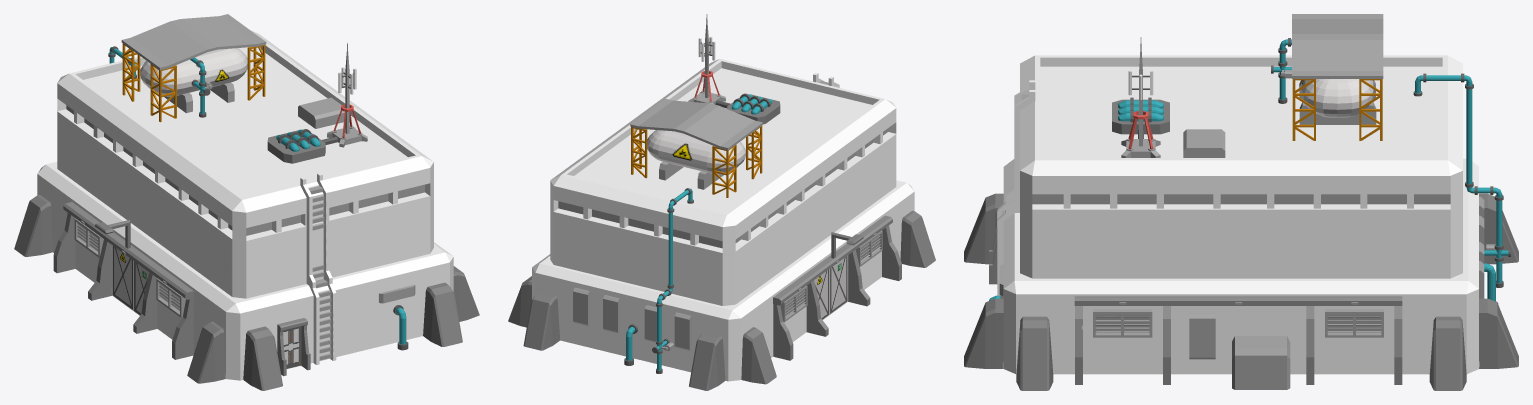
File: service_Building_01.fbx
3 renders of one model, left to right at view 1: azimuth 30°, elevation 25°; view 2: azimuth 150°, elevation 25°; view 3: azimuth 270°, elevation 25°, orthographic. The views are drawn at different scales.
Visible parts, largest first — view 1: Mesh1; view 2: Mesh1; view 3: Mesh1.
Boxes of the visible parts, left/top/right/bottom form: Mesh1: left=14, top=14, right=479, bottom=390; Mesh1: left=508, top=14, right=935, bottom=390; Mesh1: left=964, top=14, right=1518, bottom=390.
Bounding box in the file's own units: 99.77 × 85.12 × 139.
2 materials, 1 textured.
